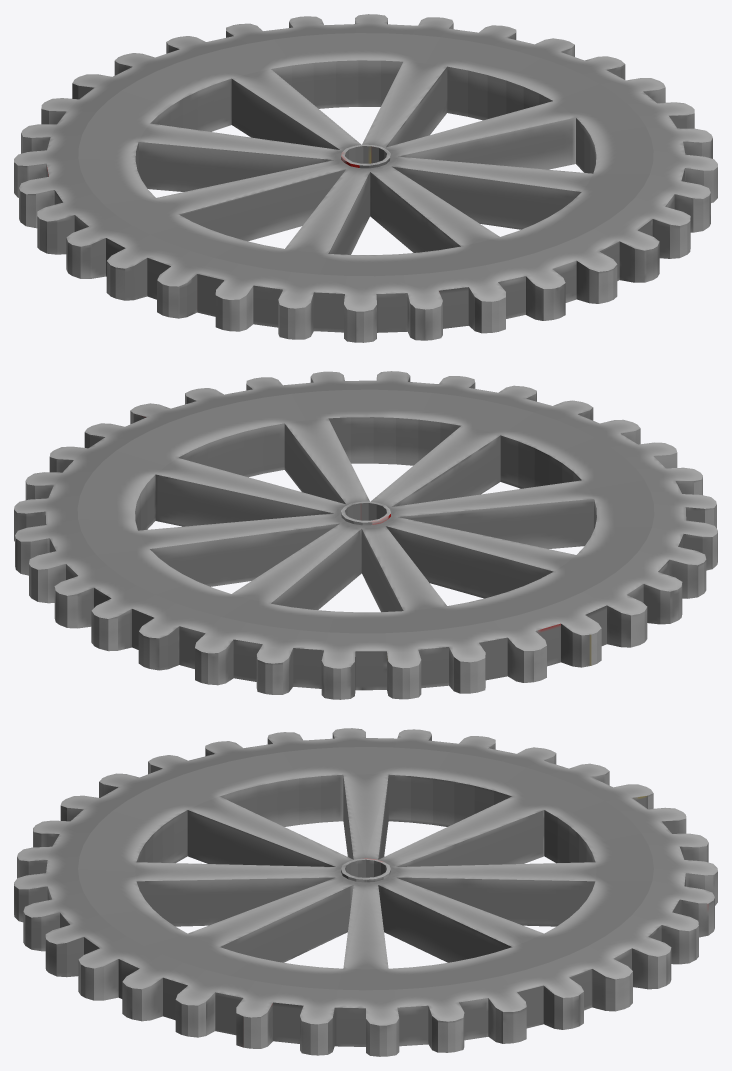
The model's file is gear.glb.
3 views of the same model, one above another, from view 1: azimuth 30°, elevation 25°; view 2: azimuth 150°, elevation 25°; view 3: azimuth 270°, elevation 25° (orthographic).
Parts seen in each view (by area): view 1: Circle; view 2: Circle; view 3: Circle.
Boxes of the visible parts, <box> form: Circle: <box>14,14,717,342</box>; Circle: <box>14,371,717,699</box>; Circle: <box>14,728,717,1056</box>.
Bounding box in the file's own units: 11.91 × 0.9954 × 11.91.
Materials: 1 (1 with a texture image).
